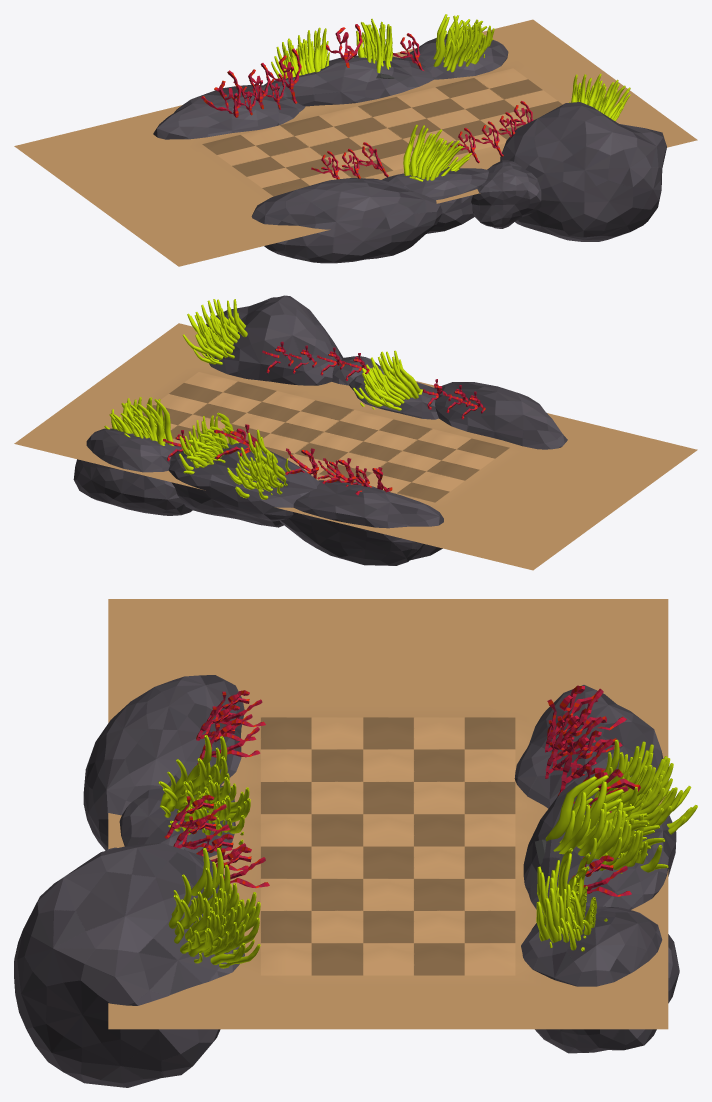
Rendered from better_board.fbx.
3 renders of one model, top to bottom at view 1: azimuth 30°, elevation 25°; view 2: azimuth 150°, elevation 25°; view 3: azimuth 270°, elevation 25°, orthographic. The views are drawn at different scales.
Visible parts, largest first — view 1: Grid, Icosphere.008, Icosphere.005, Icosphere.003, Icosphere.009, Icosphere.007, Icosphere.006, Icosphere.004, Plane.002, Plane.005, Plane.001, Plane; view 2: Grid, Icosphere.009, Icosphere.008, Icosphere.004, Icosphere.003, Icosphere.005, Icosphere.006, Icosphere.007, Plane.001; view 3: Grid, Icosphere.008, Icosphere.005, Icosphere.004, Icosphere.009, Icosphere.003, Icosphere.006, Plane.005, Plane.002, Plane, Sphere.002|Cylinder.001|Dupli|58, Plane.010 (+1 smaller).
Boxes of the visible parts, x1,y1,x2,y2 form: Grid: (14, 19, 697, 266); Icosphere.008: (500, 102, 666, 241); Icosphere.005: (251, 178, 442, 263); Icosphere.003: (262, 55, 433, 106); Icosphere.009: (153, 85, 305, 139); Icosphere.007: (471, 160, 541, 228); Icosphere.006: (382, 167, 488, 233); Icosphere.004: (404, 34, 508, 79); Plane.002: (201, 70, 241, 117); Plane.005: (266, 48, 301, 103); Plane.001: (326, 24, 362, 67); Plane: (233, 63, 270, 109); Grid: (14, 323, 697, 570); Icosphere.009: (279, 480, 443, 565); Icosphere.008: (205, 295, 343, 385); Icosphere.004: (73, 428, 192, 515); Icosphere.003: (168, 443, 319, 527); Icosphere.005: (435, 382, 567, 449); Icosphere.006: (349, 374, 438, 419); Icosphere.007: (332, 356, 384, 385); Plane.001: (214, 424, 258, 459); Grid: (108, 599, 668, 1029); Icosphere.008: (14, 843, 244, 1087); Icosphere.005: (83, 675, 244, 850); Icosphere.004: (521, 906, 679, 1053); Icosphere.009: (514, 685, 663, 808); Icosphere.003: (523, 768, 676, 914); Icosphere.006: (119, 785, 235, 857); Plane.005: (557, 730, 616, 796); Plane.002: (547, 685, 626, 738); Plane: (552, 708, 622, 761); Sphere.002|Cylinder.001|Dupli|58: (545, 776, 597, 841); Plane.010: (173, 815, 232, 851).
Bounding box in the file's own units: 1722 × 451 × 1157.
